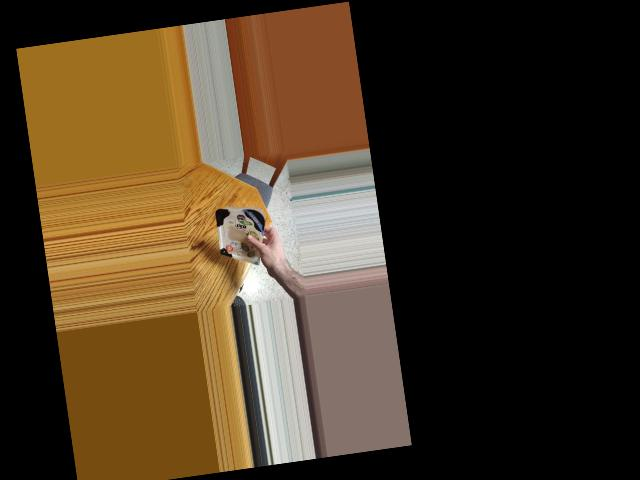cheese: (218, 202, 262, 265)
